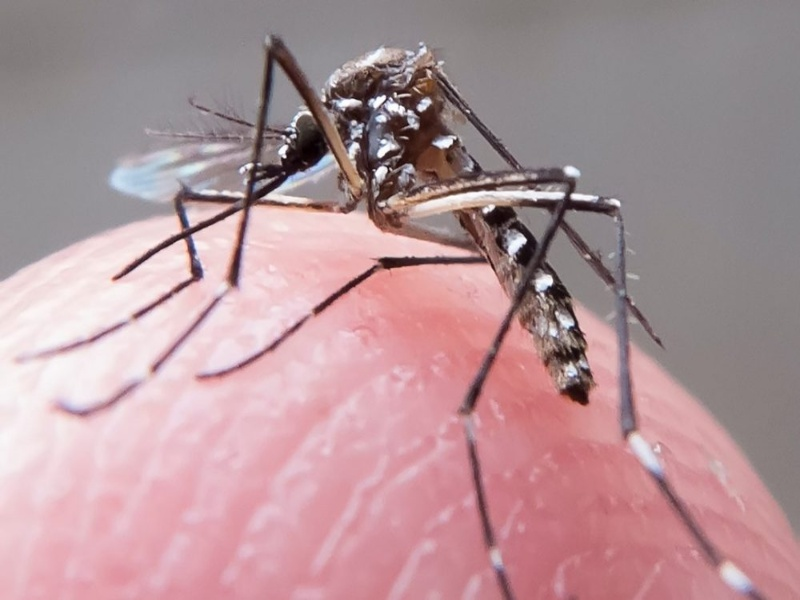dengue_mosquito: (150, 44, 620, 391)
